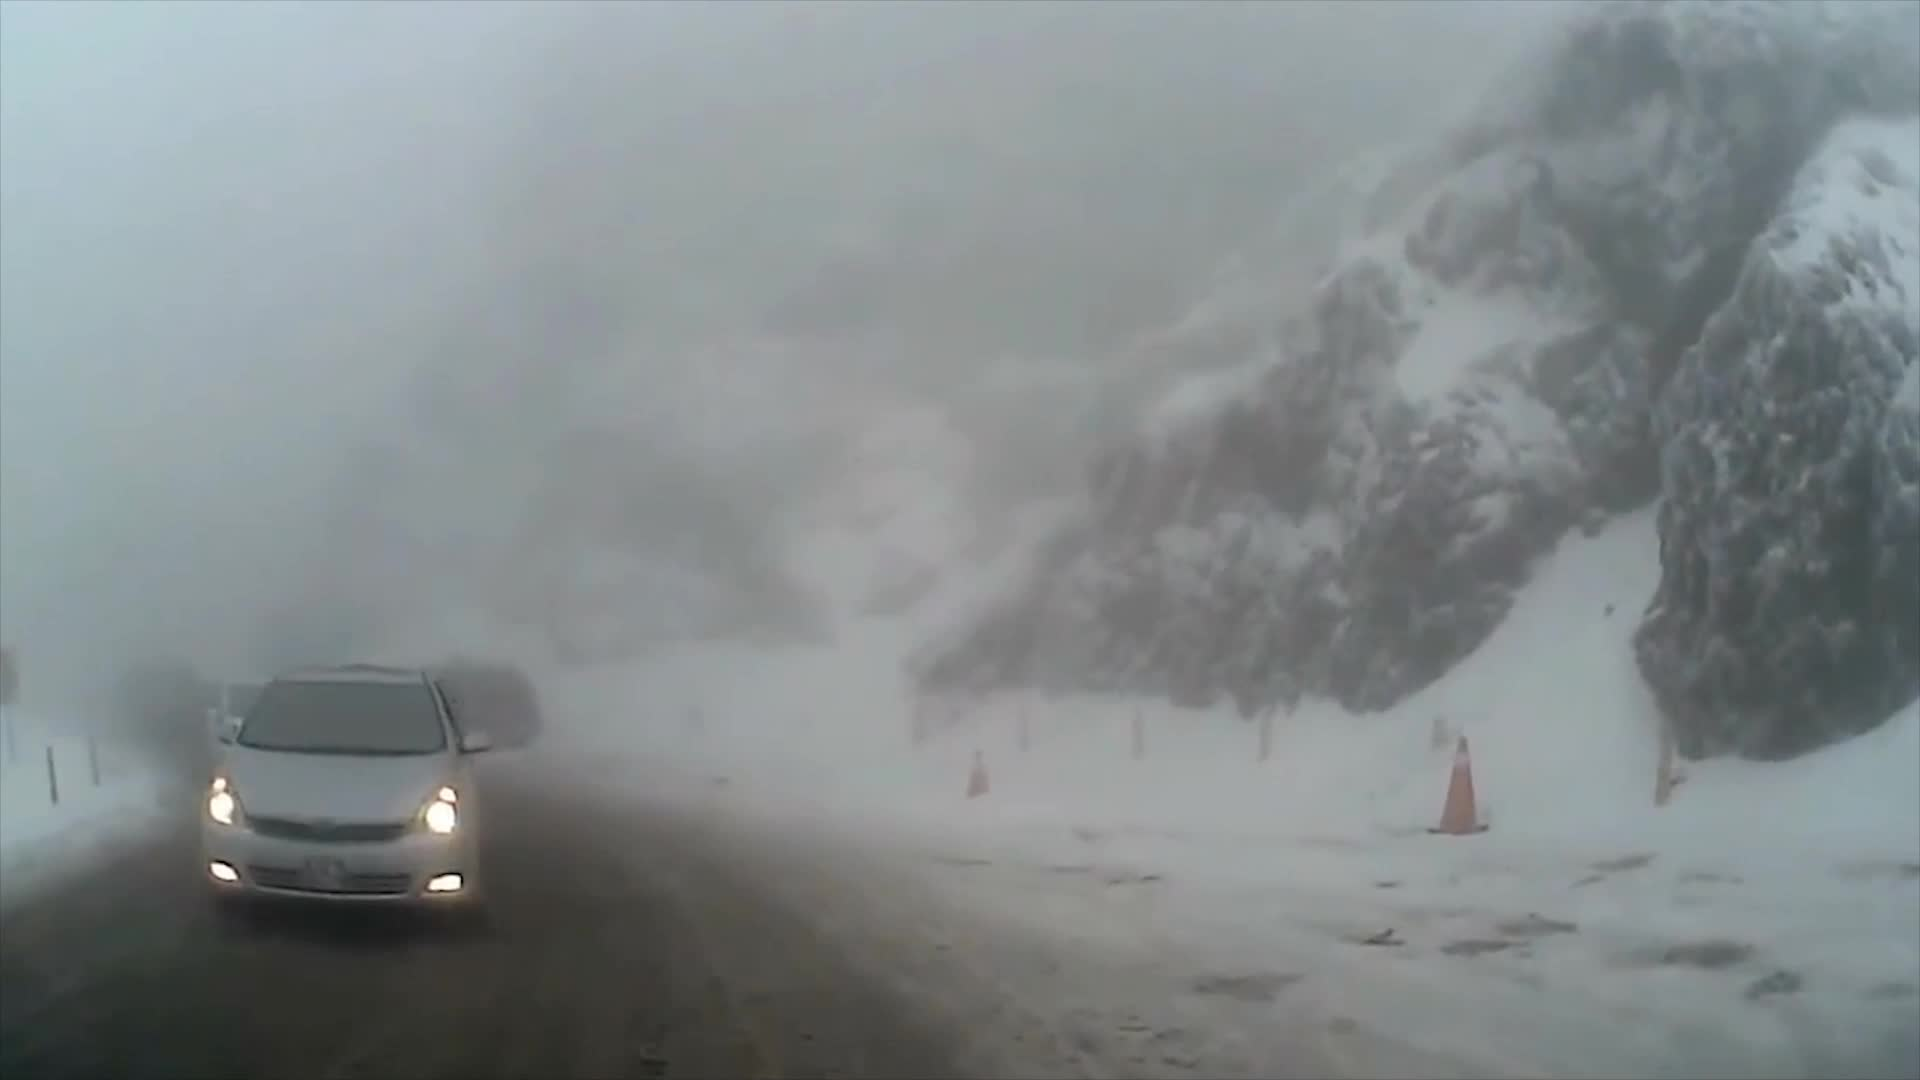vehicle: (194, 662, 495, 935), (189, 676, 342, 795)
